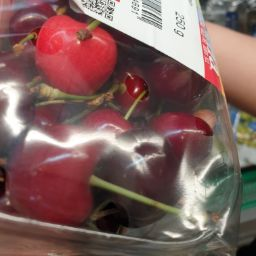Cherry: (9, 97, 154, 237), (121, 60, 222, 181), (22, 9, 124, 101)
